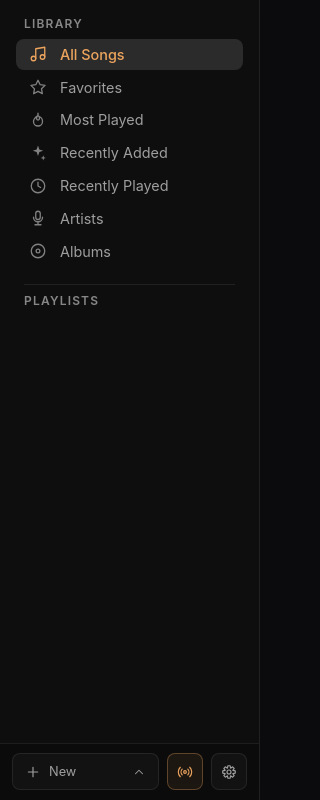
Test: Sidebar scan controls › has no Cancel button when not scanning
Click the button "New": (86, 772) [12,753,159,790]
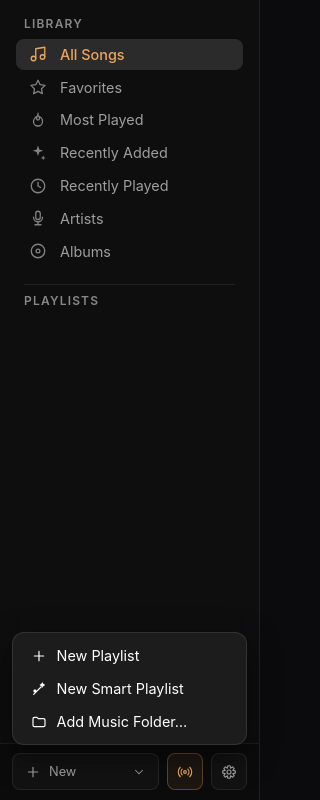
Expected: the text "Add Music Folder…" is shown, [31,713,187,730]
